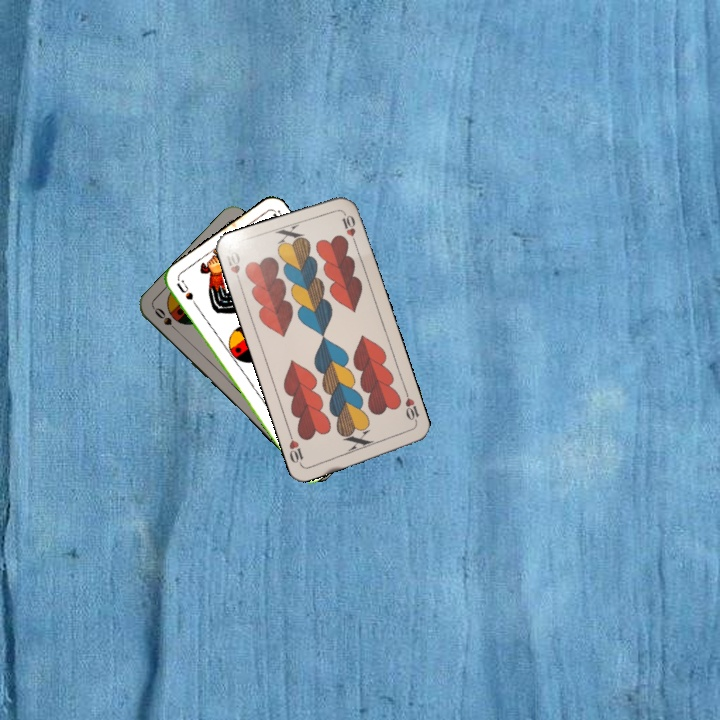H10: (221, 247, 244, 287), (401, 388, 422, 428)
SO: (150, 303, 183, 336)
SU: (172, 277, 203, 314)
